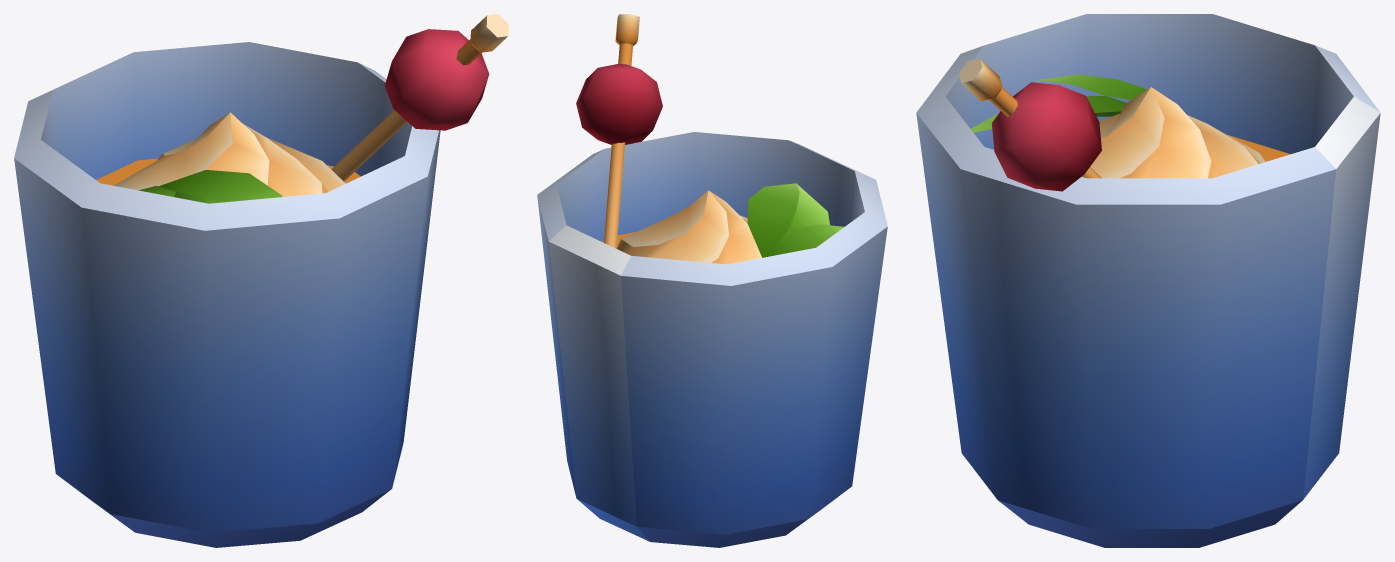
Rendered from m_Cocktail06.fbx.
3 views of the same model, side by side, from view 1: azimuth 30°, elevation 25°; view 2: azimuth 150°, elevation 25°; view 3: azimuth 270°, elevation 25° (orthographic). The views are drawn at different scales.
Parts seen in each view (by area): view 1: m_Cocktail06; view 2: m_Cocktail06; view 3: m_Cocktail06.
Part boxes in pixels (bbox=[...]): m_Cocktail06: bbox=[14, 14, 508, 547]; m_Cocktail06: bbox=[537, 14, 887, 547]; m_Cocktail06: bbox=[916, 14, 1380, 547].
Bounding box in the file's own units: 13.17 × 16.02 × 12.98.
